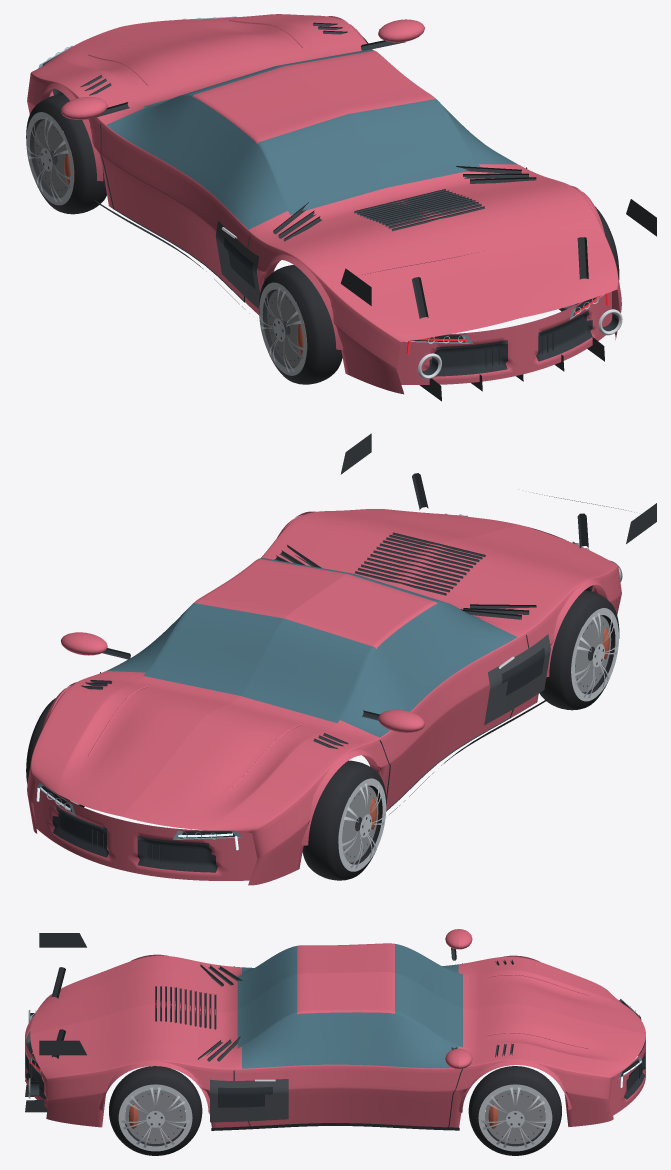
The model's file is inferno_r.glb.
3 renders of one model, top to bottom at view 1: azimuth 30°, elevation 25°; view 2: azimuth 150°, elevation 25°; view 3: azimuth 270°, elevation 25°, orthographic. The views are drawn at different scales.
Visible parts, largest first — view 1: Body, Wheel_2, Wheel_0; view 2: Body, Wheel_0, Wheel_2; view 3: Body, Wheel_1, Wheel_3.
Part boxes in pixels (box(x1,y1,x2,y2)): Body: box(27, 14, 656, 401); Wheel_2: box(259, 265, 342, 384); Wheel_0: box(26, 94, 106, 214); Body: box(27, 433, 656, 885); Wheel_0: box(302, 760, 386, 880); Wheel_2: box(539, 590, 619, 710); Body: box(25, 929, 645, 1130); Wheel_1: box(468, 1066, 561, 1155); Wheel_3: box(109, 1066, 202, 1155).
Size of the model in its own units: 2.48 by 1.1 by 4.95.
